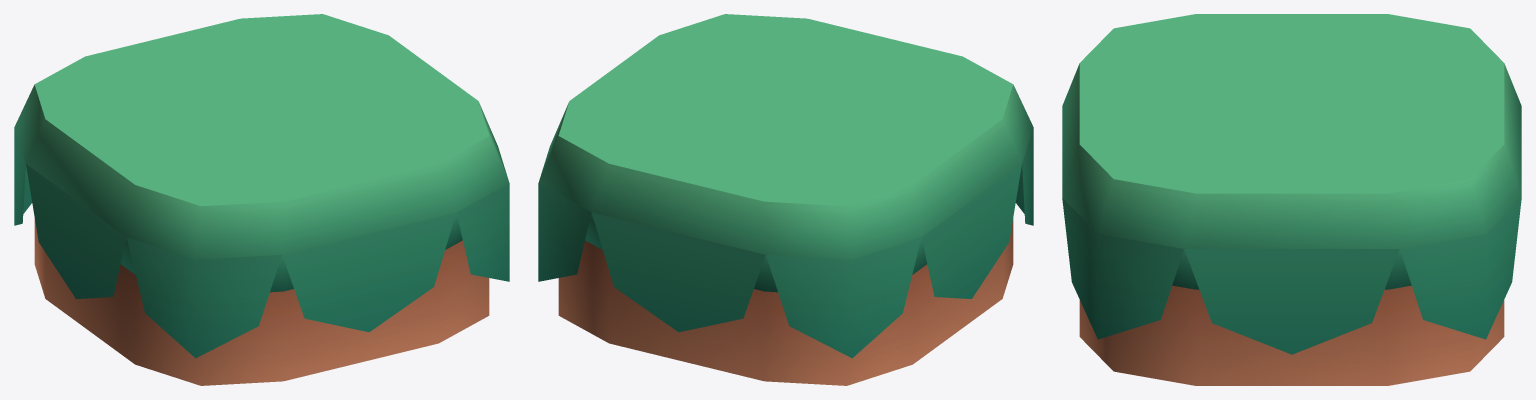
The model's file is block-grass-overhang-low.glb.
The picture shows the model from 3 angles, left to right: view 1: azimuth 30°, elevation 25°; view 2: azimuth 150°, elevation 25°; view 3: azimuth 270°, elevation 25°; orthographic projection. The views are drawn at different scales.
Visible parts, largest first — view 1: block-grass-overhang-low; view 2: block-grass-overhang-low; view 3: block-grass-overhang-low.
Part boxes in pixels (x1,y1,x2,y2): block-grass-overhang-low: (14,14,509,385); block-grass-overhang-low: (538,14,1033,385); block-grass-overhang-low: (1062,14,1521,385).
Bounding box in the file's own units: 1.08 × 0.5 × 1.08.
Materials: 1 (1 with a texture image).
